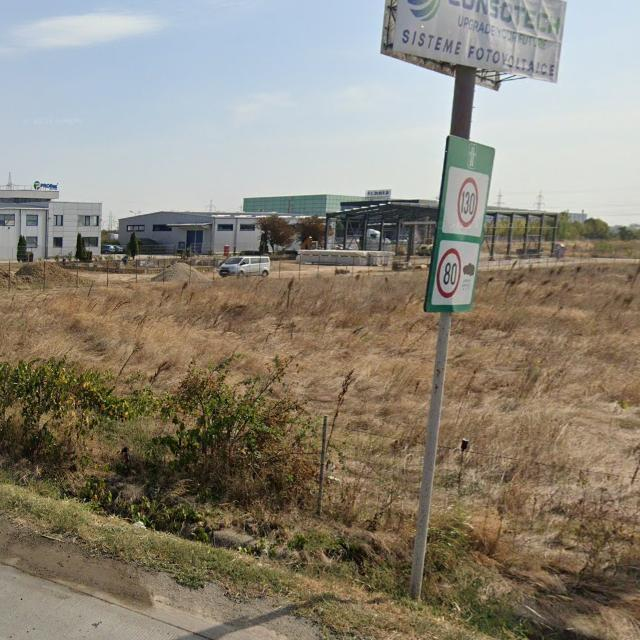forb_speed_over_80: (436, 247, 462, 298)
